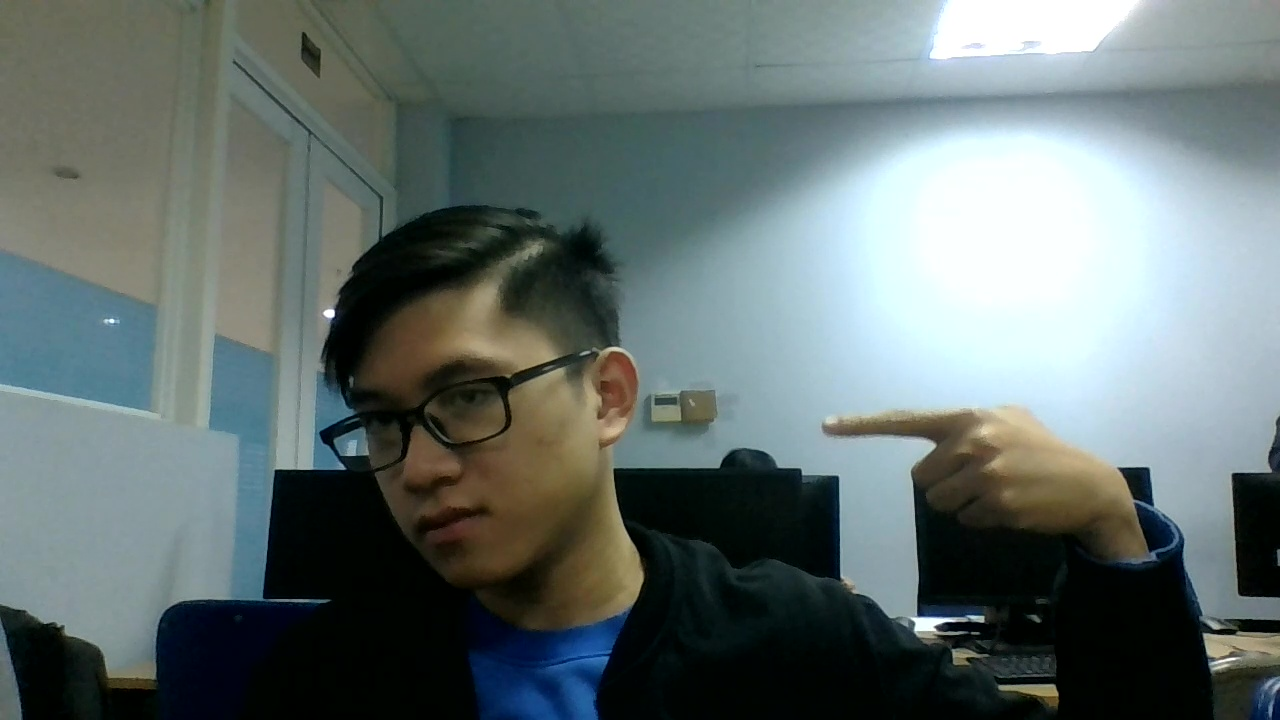right: (819, 396, 1150, 551)
